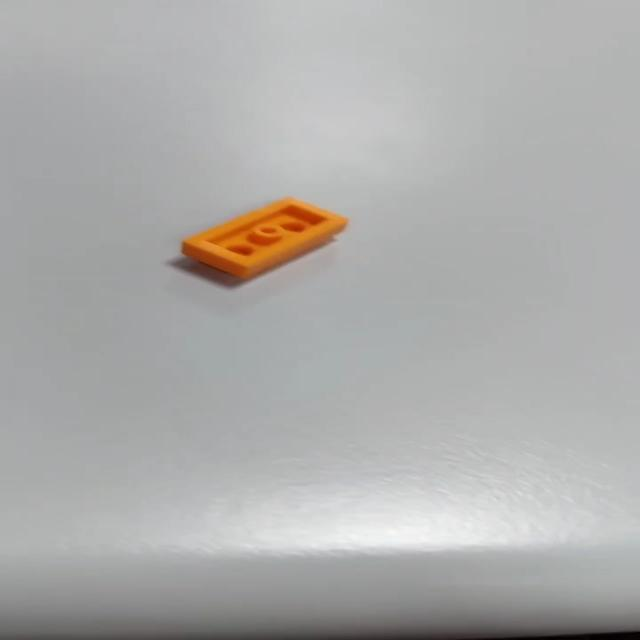C2x1x0: (180, 196, 345, 279)
